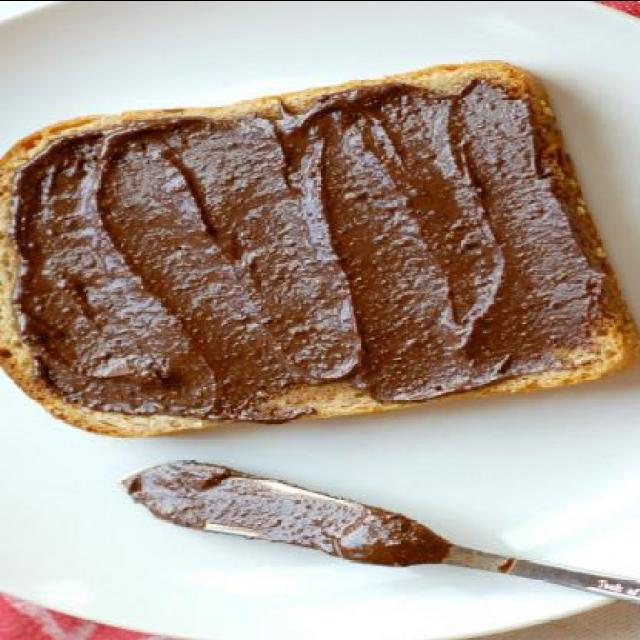Spread: (20, 82, 578, 426)
